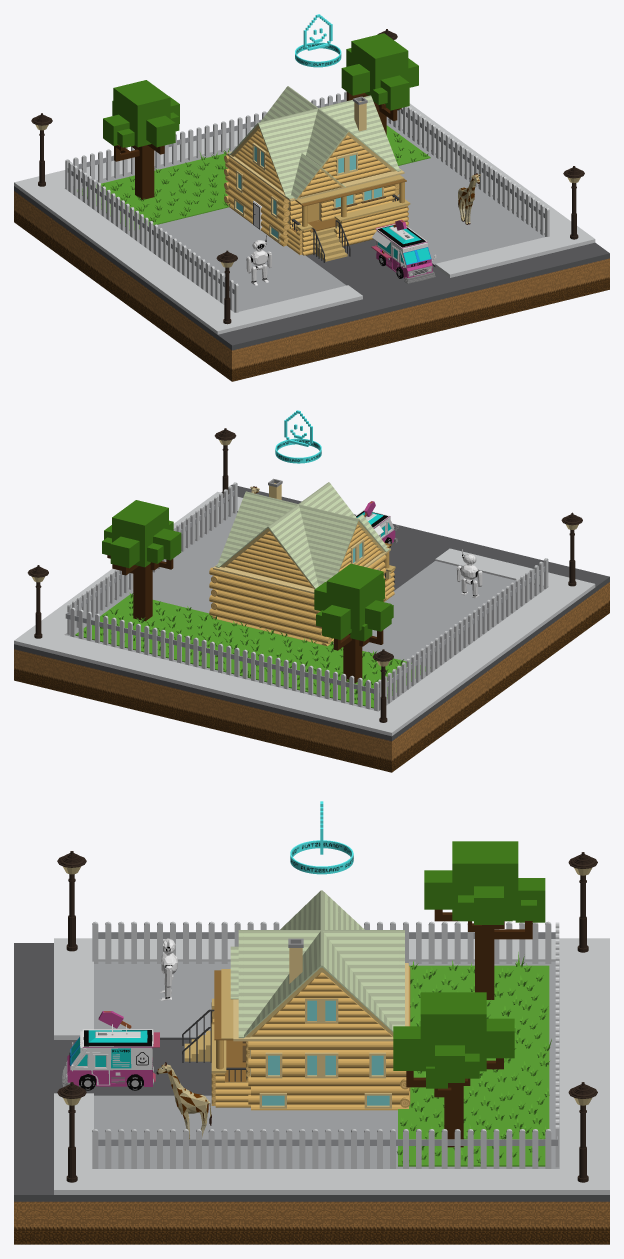
3 renders of one model, top to bottom at view 1: azimuth 30°, elevation 25°; view 2: azimuth 150°, elevation 25°; view 3: azimuth 270°, elevation 25°, orthographic. The views are drawn at different scales.
Parts seen in each view (by area): view 1: Cube.004, Cube.1516, VEHICLES_ICE_CREAM_TRUCK, TYPE_PREMIUM, OBJRANDOM_PLATZEEBOT, ANIMAL_JIRAFA; view 2: Cube.004, Cube.1516, TYPE_PREMIUM, VEHICLES_ICE_CREAM_TRUCK, OBJRANDOM_PLATZEEBOT; view 3: Cube.004, Cube.1516, VEHICLES_ICE_CREAM_TRUCK, TYPE_PREMIUM, ANIMAL_JIRAFA, OBJRANDOM_PLATZEEBOT.
Part boxes in pixels (box(x1,y1,x2,y2)): Cube.004: box(14, 29, 609, 381); Cube.1516: box(224, 86, 410, 262); VEHICLES_ICE_CREAM_TRUCK: box(371, 219, 436, 283); TYPE_PREMIUM: box(295, 14, 341, 67); OBJRANDOM_PLATZEEBOT: box(246, 235, 271, 285); ANIMAL_JIRAFA: box(458, 173, 480, 224); Cube.004: box(14, 428, 609, 772); Cube.1516: box(209, 478, 395, 646); TYPE_PREMIUM: box(275, 410, 321, 463); VEHICLES_ICE_CREAM_TRUCK: box(355, 501, 398, 548); OBJRANDOM_PLATZEEBOT: box(456, 549, 482, 598); Cube.004: box(14, 841, 609, 1244); Cube.1516: box(182, 890, 410, 1110); VEHICLES_ICE_CREAM_TRUCK: box(62, 1011, 159, 1090); TYPE_PREMIUM: box(290, 801, 353, 874); ANIMAL_JIRAFA: box(156, 1062, 211, 1139); OBJRANDOM_PLATZEEBOT: box(159, 938, 177, 1000).
Bounding box in the file's own units: 4000 × 2567 × 4000.
48 materials, 5 textured.
